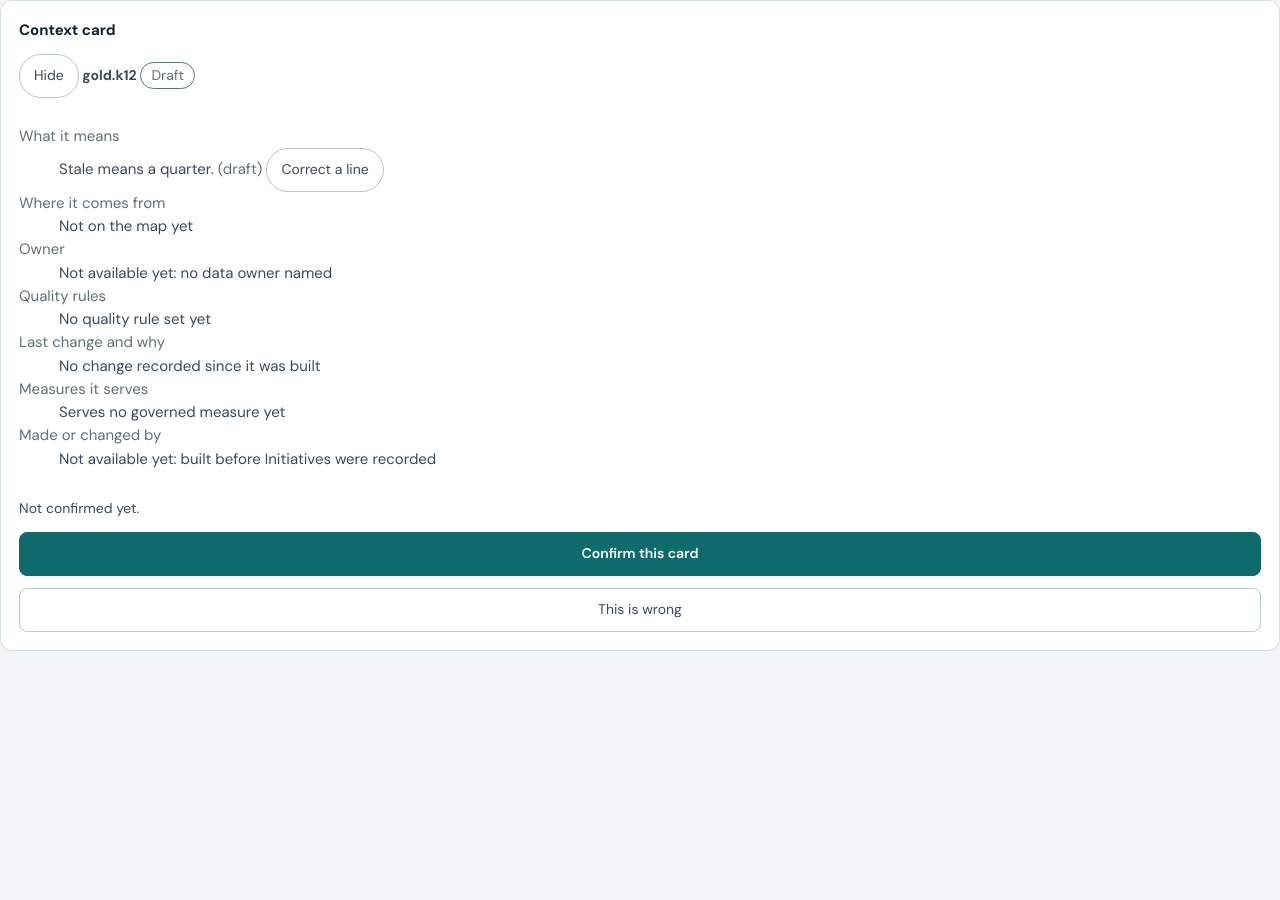
context card: only the person the server names can confirm; others read
Expected: the text "Draft" is shown, [140, 62, 195, 89]
Click the button "This is wrong". click: {"x": 640, "y": 610}
box: [19, 588, 1261, 632]
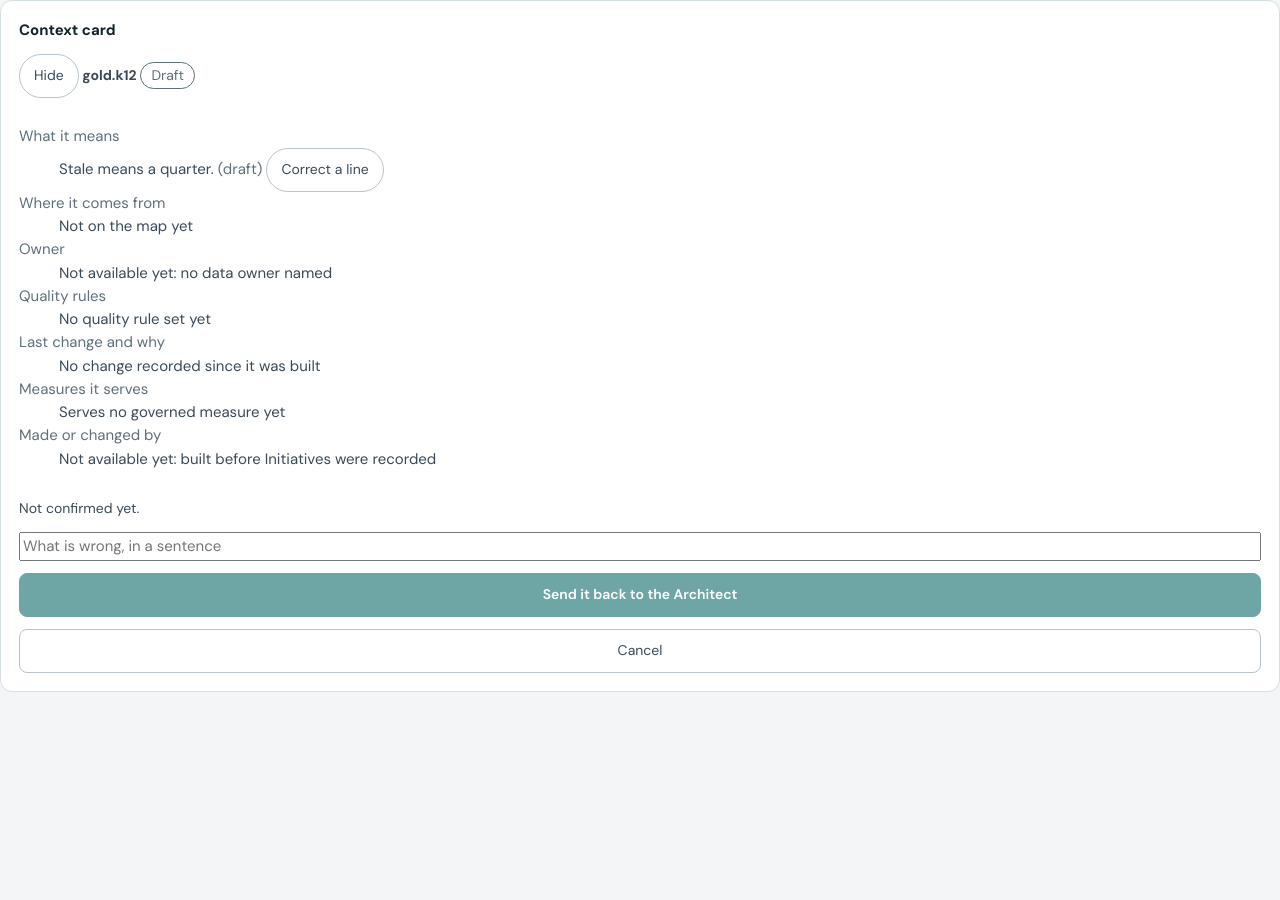
Expected: the button "Send it back to the Architect" is disabled, [19, 573, 1261, 617]
